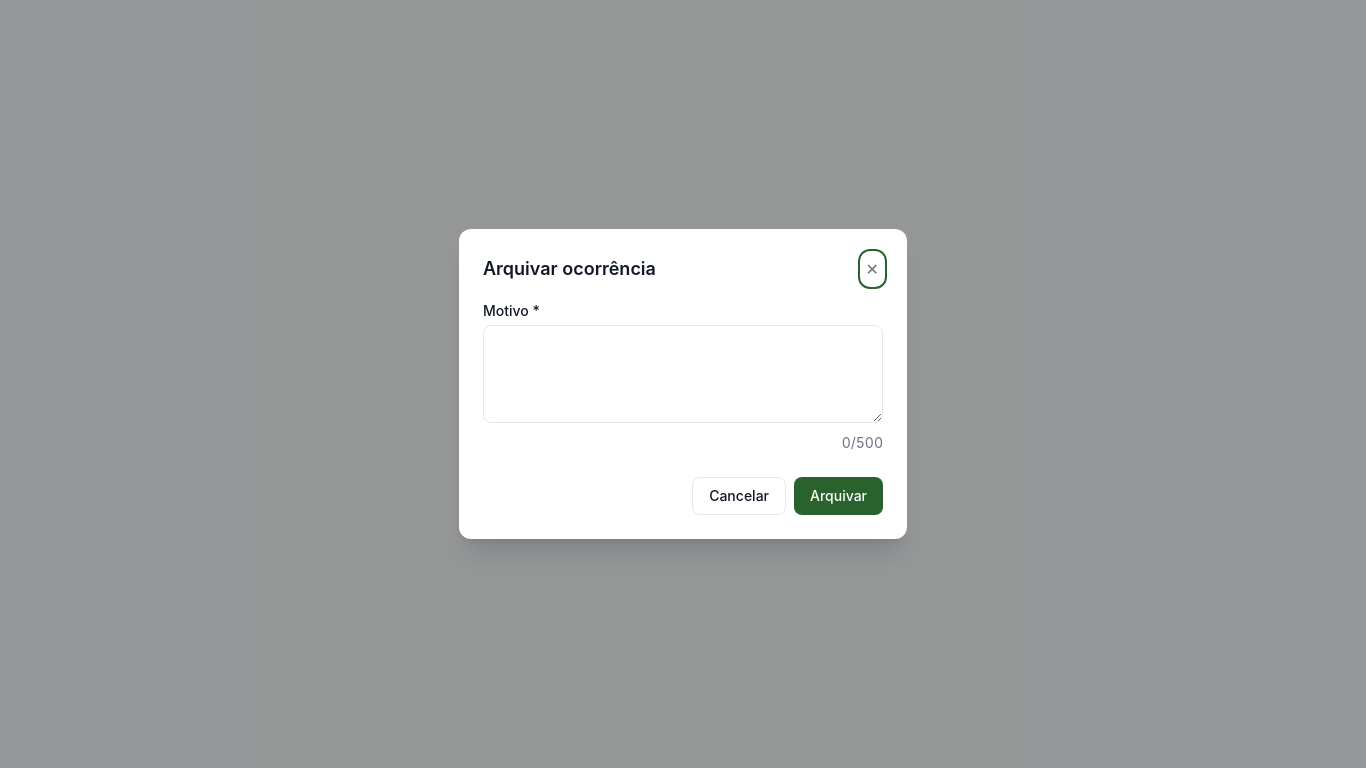
Test: ArquivarOcorrenciaDialog › mostra "Esta ocorrência já está arquivada." quando a API responde 409
This screenshot has width=1366, height=768.
Type "Qualquer motivo." into the text box labelled "Motivo *" at {"x": 683, "y": 374}, box [483,325,883,423]
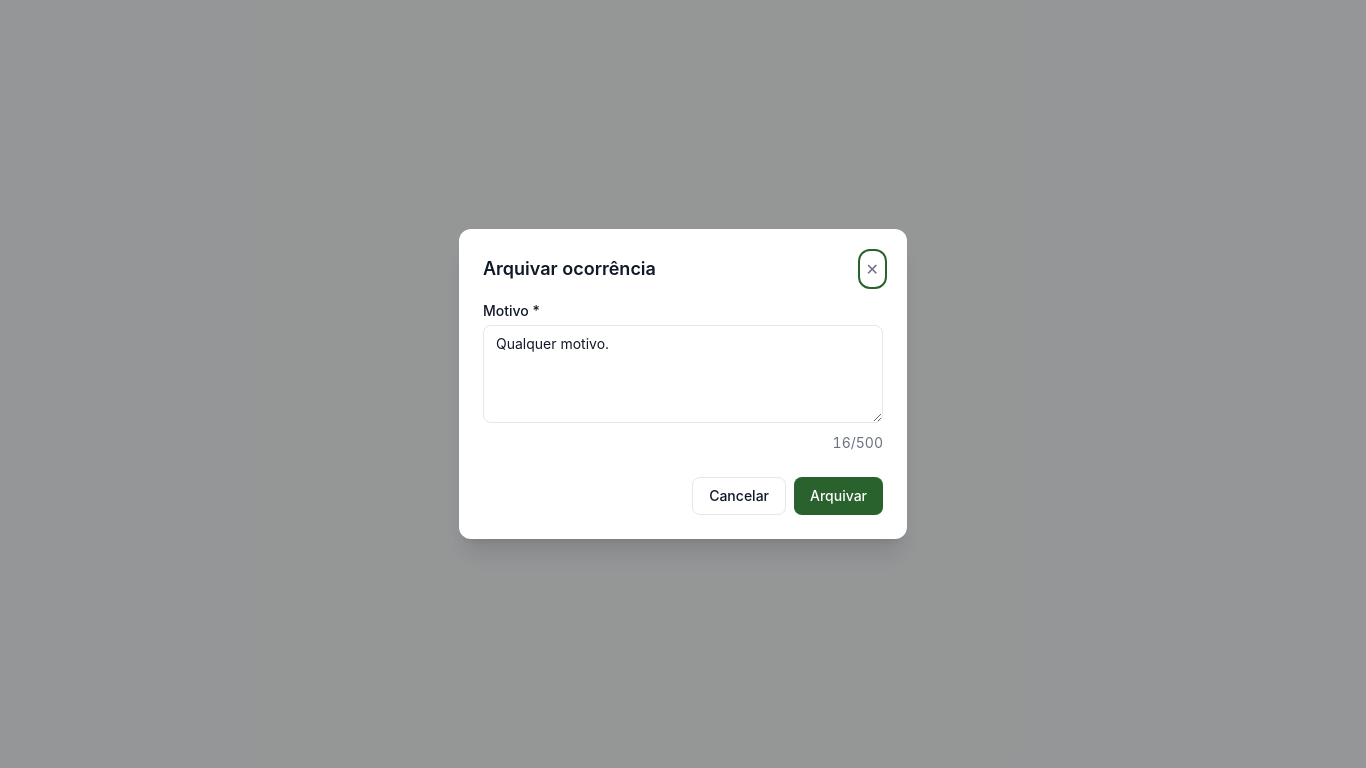
Click the button "Arquivar" at {"x": 838, "y": 496}, box [794,477,883,515]
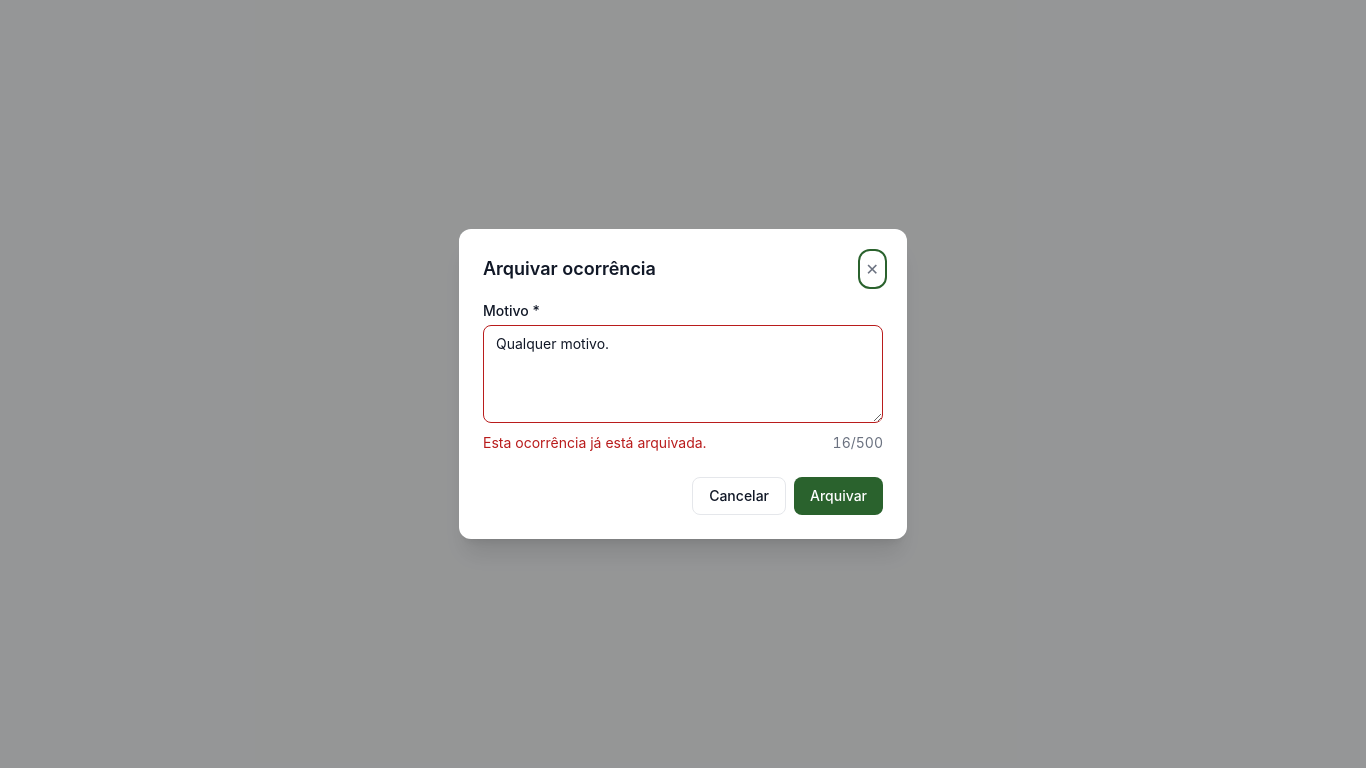
Expected: the text "Esta ocorrência já está arquivada." is shown, [483,433,707,453]
